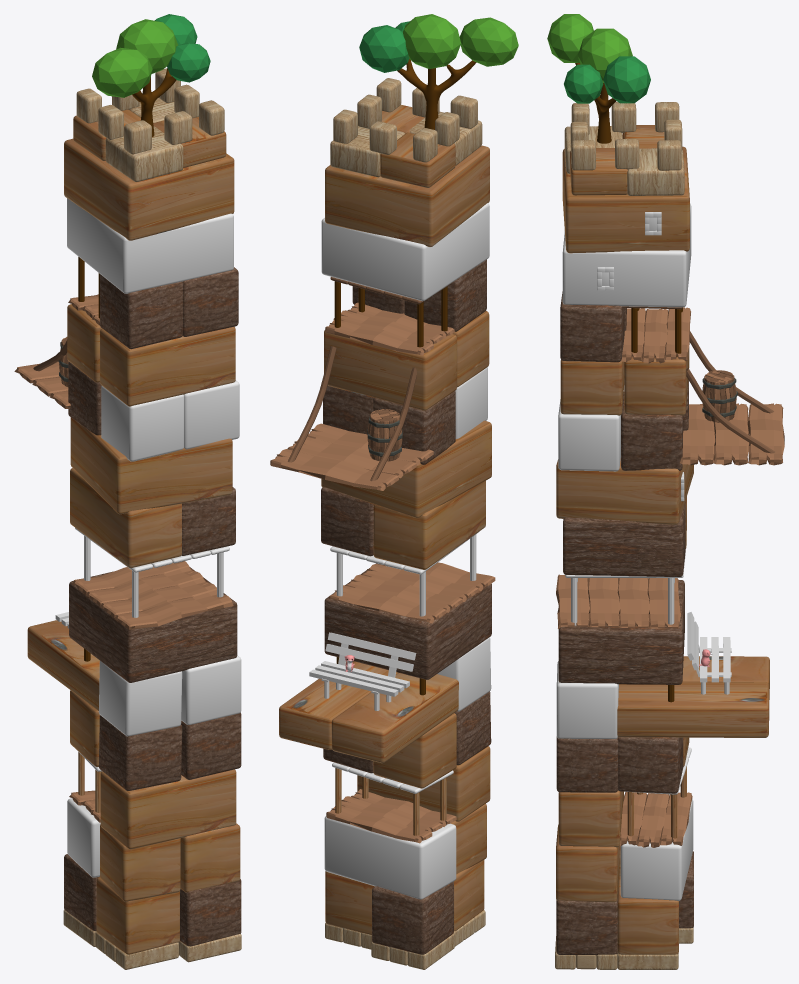
Rendered from TurmLinkeGeteilt.fbx.
3 renders of one model, left to right at view 1: azimuth 30°, elevation 25°; view 2: azimuth 150°, elevation 25°; view 3: azimuth 270°, elevation 25°, orthographic. The views are drawn at different scales.
Visible parts, largest first — view 1: Cube.113, Cube.033, Cube.055, Cube.041, Cube.002, Cube.047, Cube.040, Cube.053, Cube.027, Cube.044, Cube.031, Cube.063 (+36 smaller); view 2: Cube.113, Cube.055, Cube.033, Cube.061, Cube.046, Cube.029, Cube.041, Cube.040, Cube.066, Cube.030, Cylinder.028, Cube.002 (+47 smaller); view 3: Cube.030, Cube.033, Cube.113, Cube.039, Cube.055, Cube.041, Cube.061, Cube.054, Cube.045, Cube.026, Cube.057, Cube.115 (+41 smaller).
Part boxes in pixels (box(x1,y1,x2,y2)): Cube.113: box(64, 138, 234, 240); Cube.033: box(69, 567, 237, 682); Cube.055: box(67, 198, 233, 293); Cube.041: box(70, 417, 232, 514); Cube.002: box(100, 769, 236, 849); Cube.047: box(100, 326, 235, 406); Cube.040: box(70, 468, 181, 568); Cube.053: box(100, 274, 182, 349); Cube.027: box(98, 715, 182, 790); Cube.044: box(101, 385, 183, 461); Cube.031: box(98, 661, 182, 736); Cube.063: box(96, 877, 179, 954); Cube.113: box(325, 145, 489, 246); Cube.055: box(321, 203, 489, 301); Cube.033: box(324, 563, 491, 679); Cube.061: box(324, 816, 456, 899); Cube.046: box(324, 330, 456, 410); Cube.029: box(331, 672, 458, 763); Cube.041: box(321, 420, 491, 517); Cube.040: box(373, 480, 485, 569); Cube.066: box(372, 881, 453, 954); Cube.030: box(279, 661, 397, 749); Cylinder.028: box(309, 632, 416, 710); Cube.002: box(357, 746, 490, 821); Cube.030: box(617, 682, 769, 737); Cube.033: box(558, 580, 684, 684); Cube.113: box(562, 146, 689, 253); Cube.039: box(563, 501, 685, 576); Cube.055: box(562, 203, 691, 307); Cube.041: box(556, 458, 693, 524); Cube.061: box(620, 799, 693, 900); Cube.054: box(560, 291, 624, 362); Cube.045: box(558, 399, 620, 471); Cube.026: box(618, 737, 683, 793); Cube.057: box(556, 824, 619, 902); Cube.115: box(617, 876, 678, 954).
Size of the model in its own units: 9.29 by 57.46 by 13.64.
